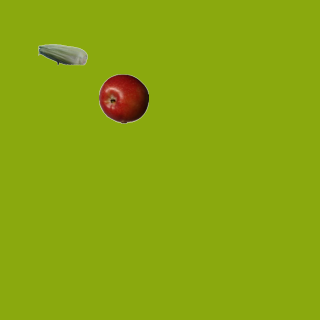Apple Braeburn: (98, 73, 148, 123)
Corn Husk: (37, 29, 87, 79)
